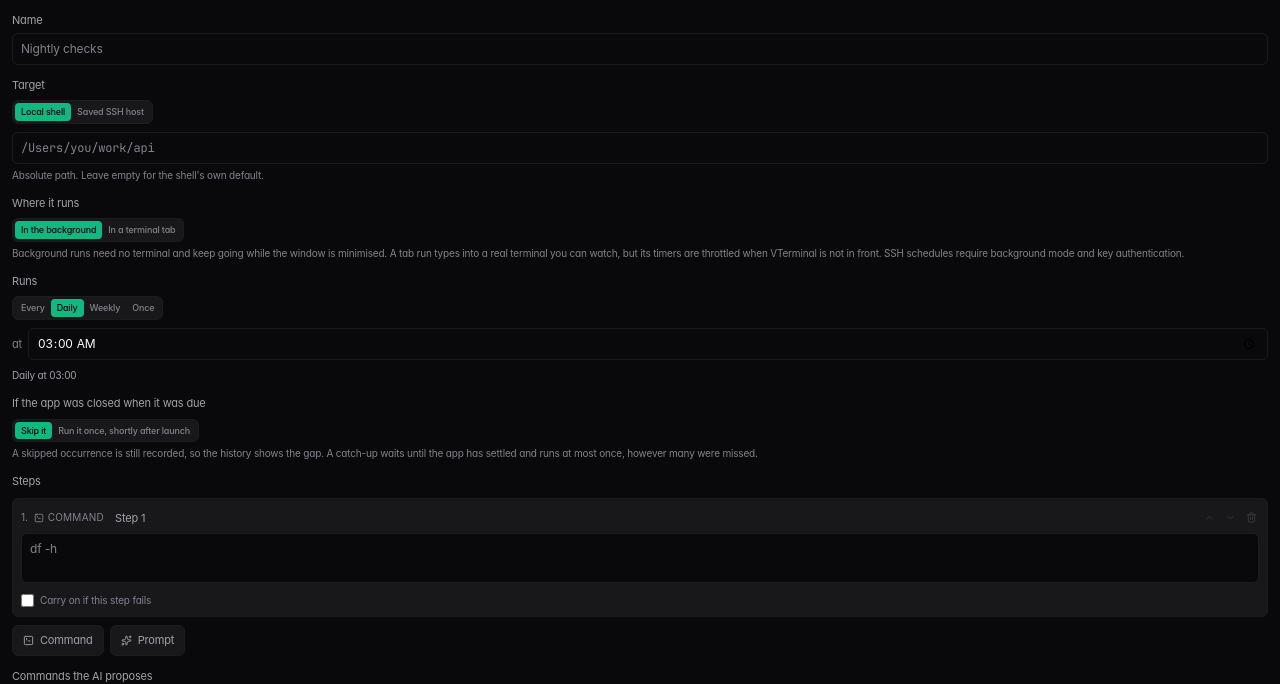
ScheduleEditor › shows the exact ssh command that will be typed
Click the radio button "Saved SSH host" at (110, 112), box [71, 103, 150, 120]
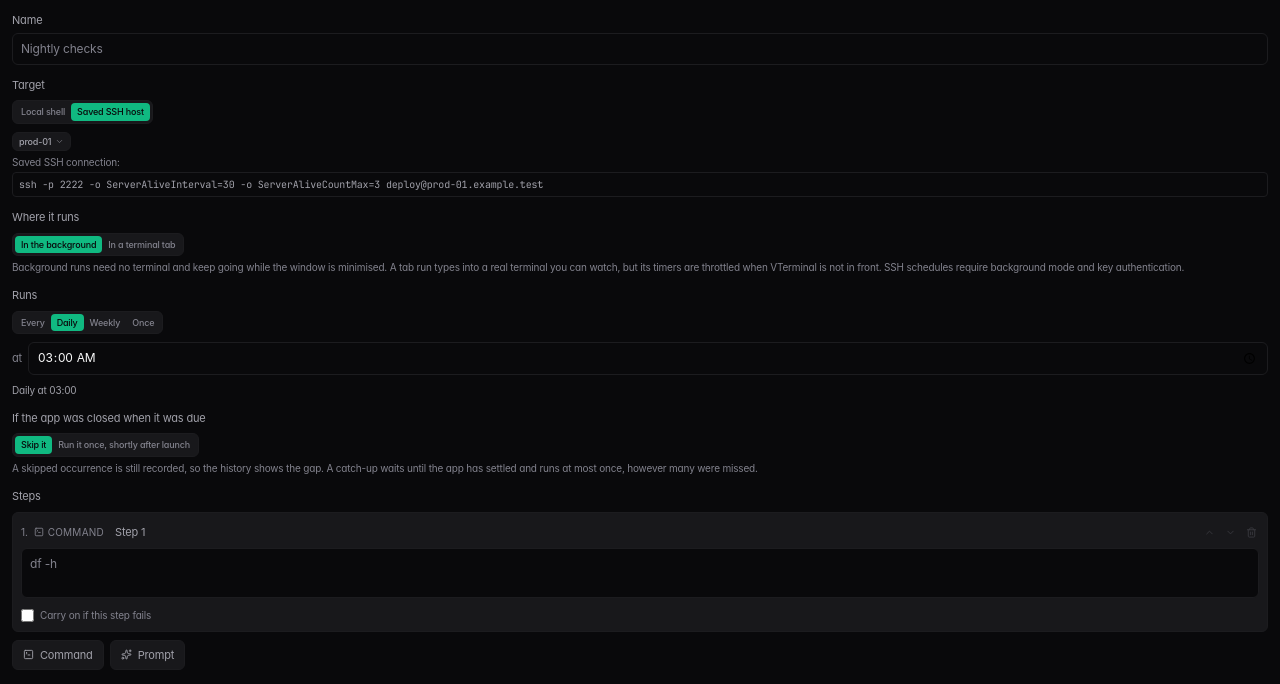
Expected: the text "ssh " shows "deploy@prod-01.example.test", [19, 178, 543, 191]
Expected: the text "ssh " shows "-p 2222", [19, 178, 543, 191]
